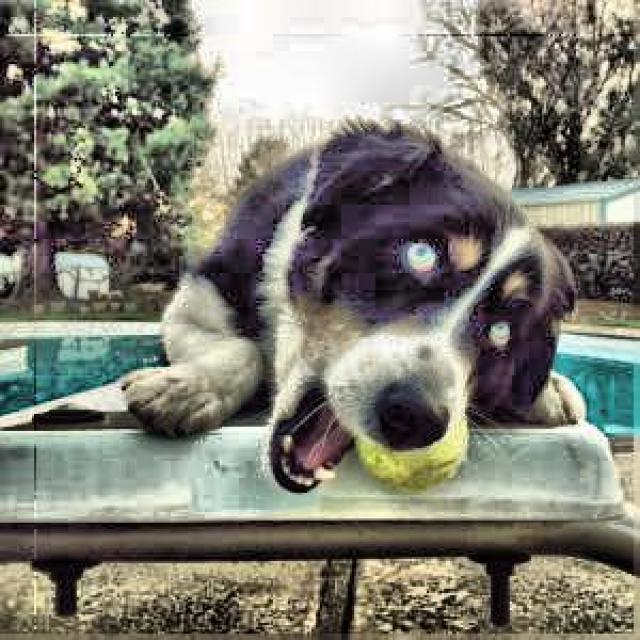tennis-ball: (358, 404, 484, 504)
